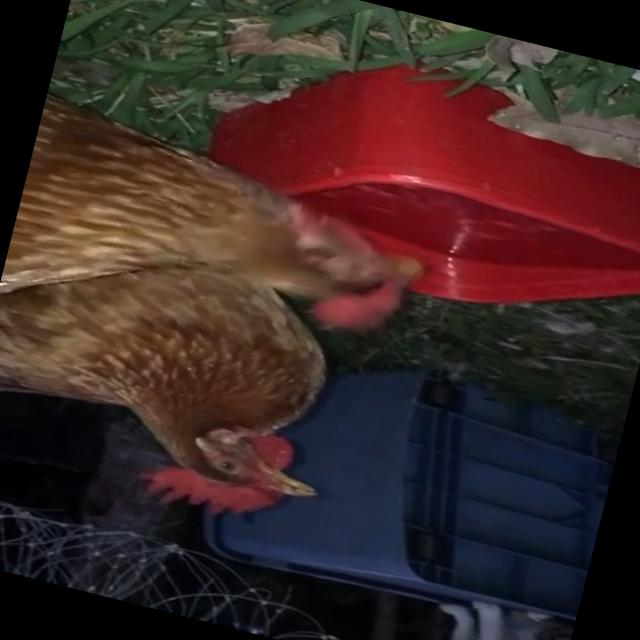drinking: (4, 119, 451, 368)
